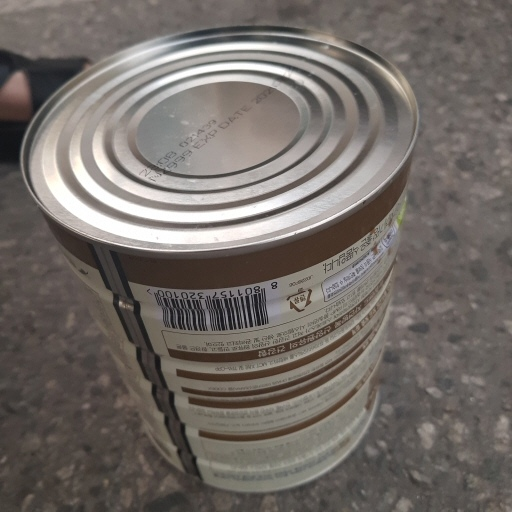Metal_1: (19, 28, 419, 499)
